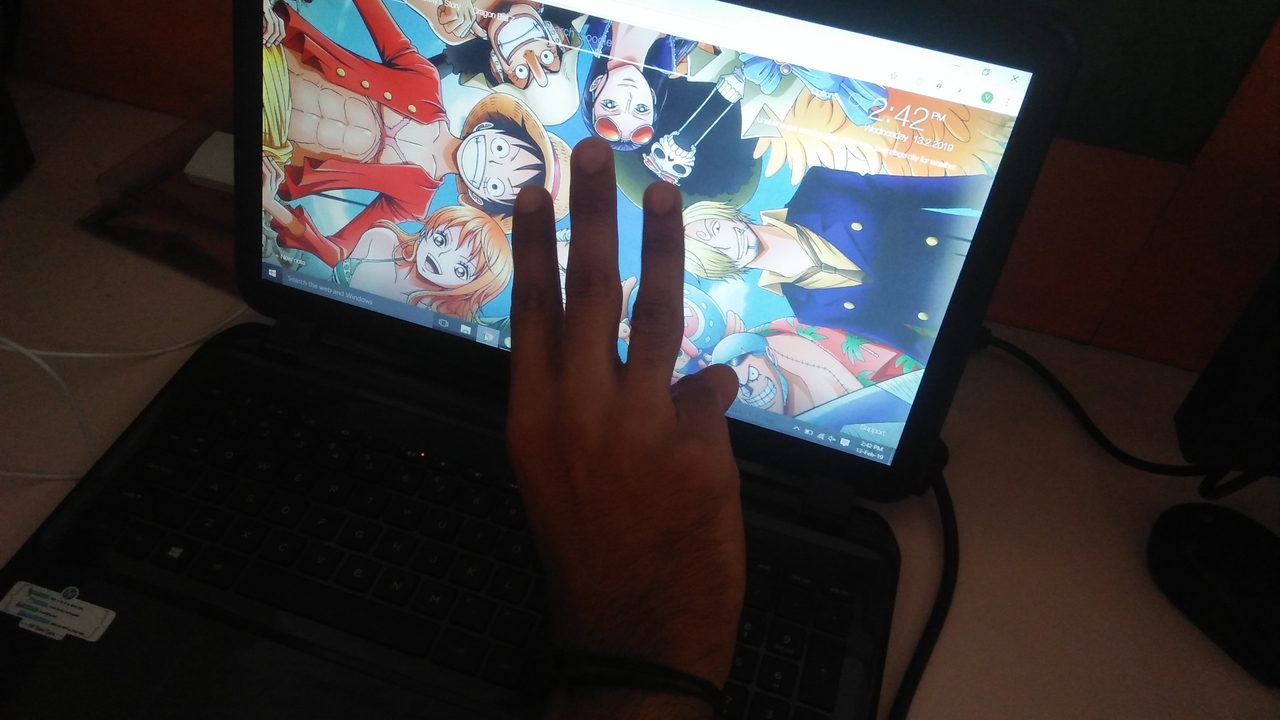fingertip: (562, 128, 620, 182), (636, 168, 684, 220), (504, 178, 556, 220)
